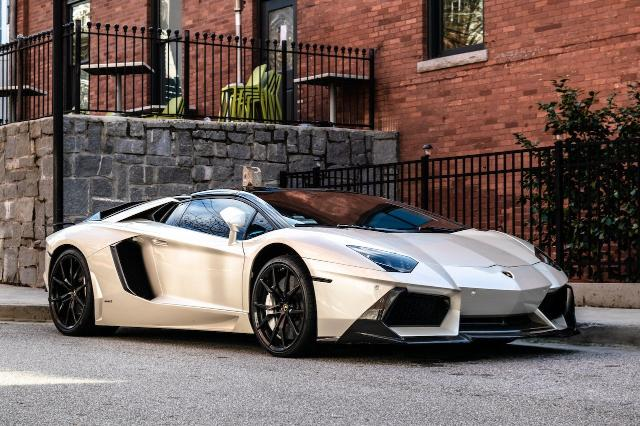lamborghini: (43, 190, 577, 356)
